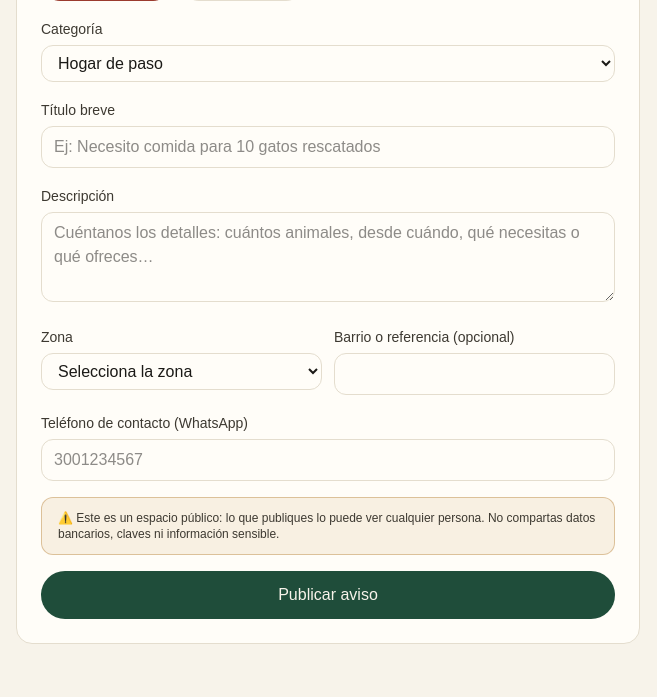
PublicarAvisoAyuda › muestra el aviso de espacio público (feature 40) y valida campos
(page scrolled)
expect the text "espacio público" is shown: met, box [58,511,595,541]
Step 1. Click the button "Publicar aviso" → click(328, 595), box [41,571,615,619]
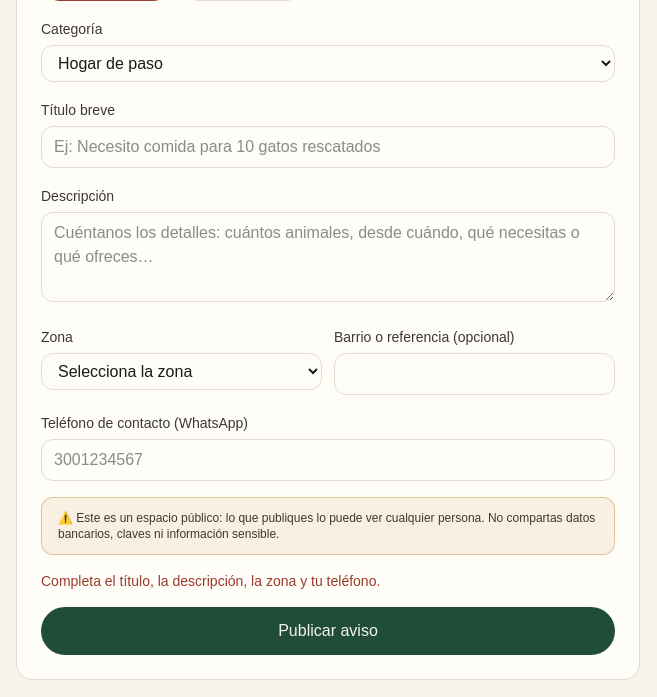
expect the text "Completa el título, la descripción, la zona y tu teléfono." is shown: met, box [41,573,380,589]
